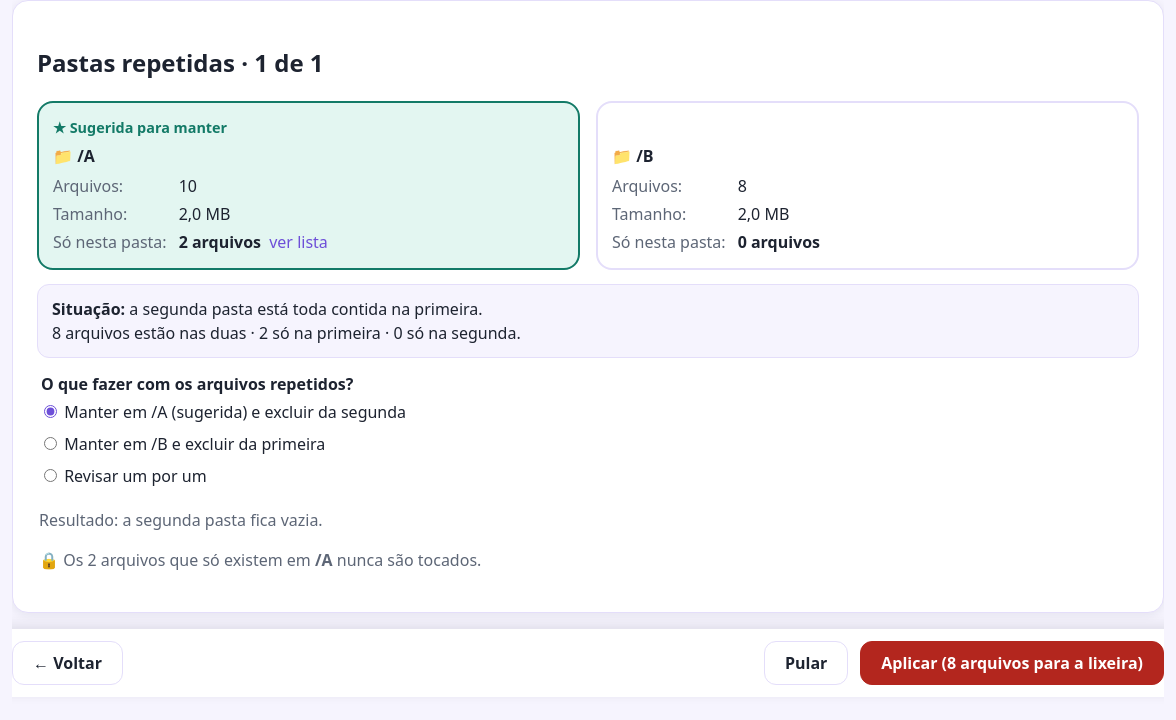
Scenario: trocar a pasta recarrega o plano e o texto do resultado
The image size is (1176, 720).
Expected: the text "Resultado: a segunda pasta fica vazia." is shown, [39,509,323,531]
Click the radio button labelled "Manter em /B e excluir da primeira": point(50, 444) [44,437,57,450]
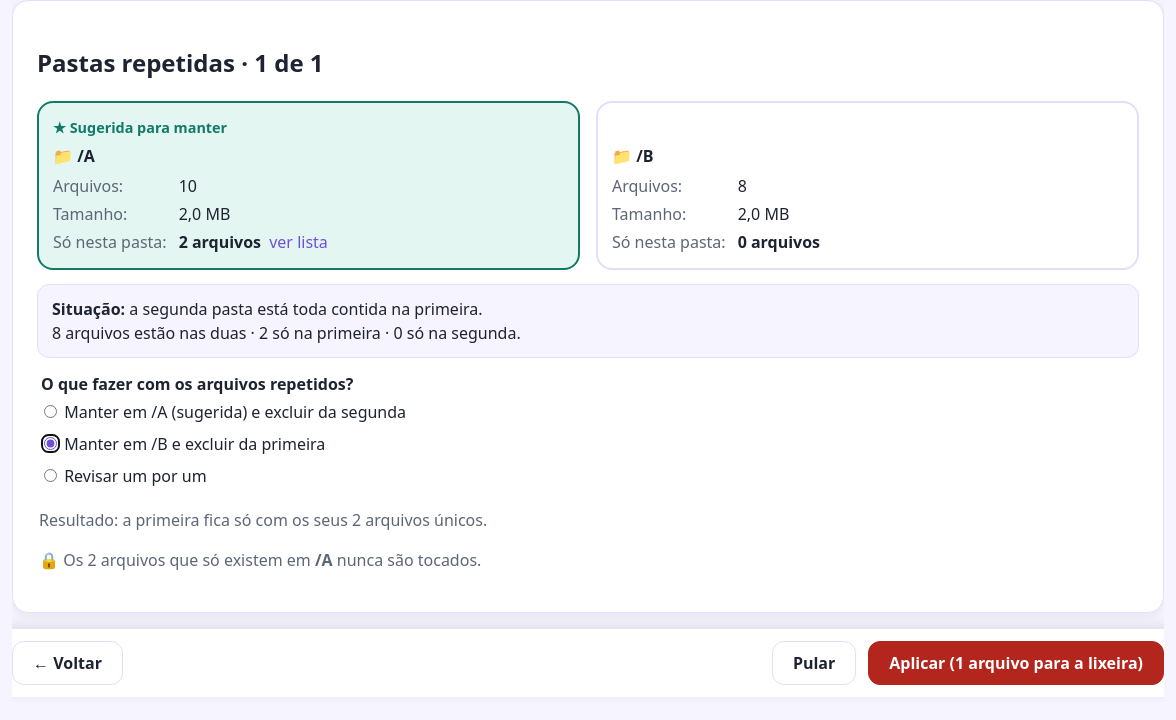
Expected: the button "Aplicar (1 arquivo para a lixeira)" is enabled, [868,641,1164,685]
Expected: the text "Resultado: a primeira fica só com os seus 2 arquivos únicos." is shown, [39,509,487,531]
